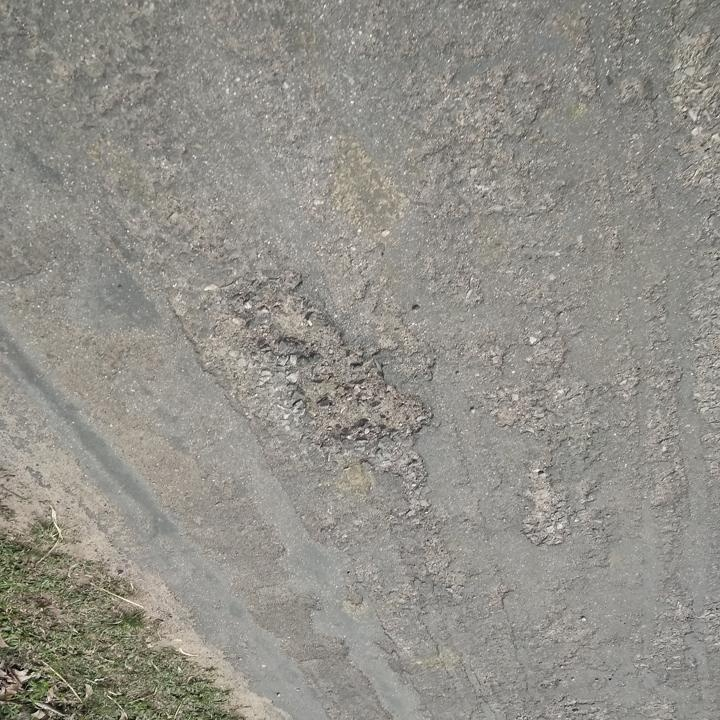pothole: (235, 277, 437, 449), (517, 468, 574, 549)
